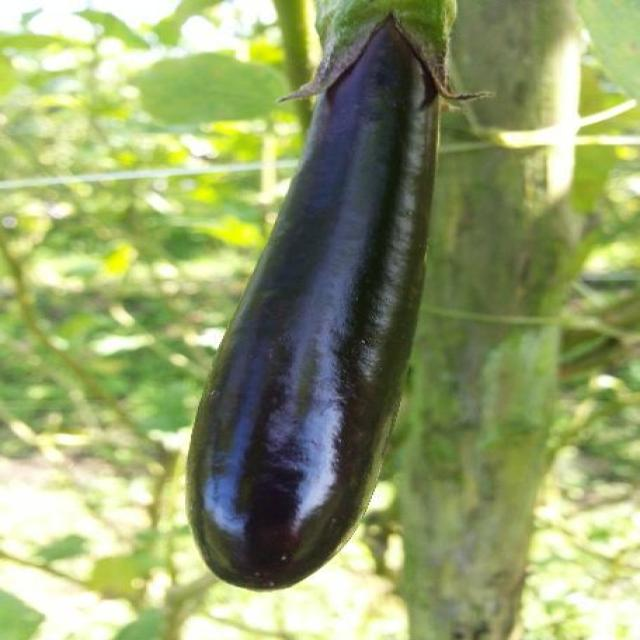eggplant: (154, 0, 461, 613)
